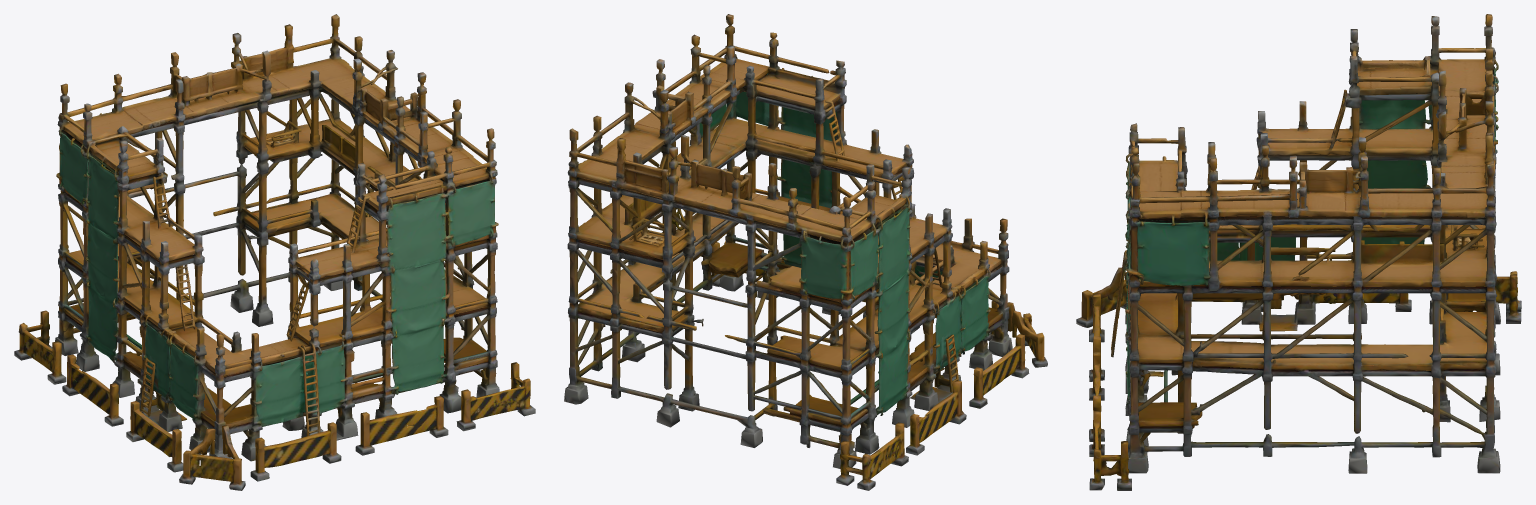
The model's file is construction_site.glb.
3 views of the same model, side by side, from view 1: azimuth 30°, elevation 25°; view 2: azimuth 150°, elevation 25°; view 3: azimuth 270°, elevation 25° (orthographic). The views are drawn at different scales.
Visible parts, largest first — view 1: tripo_node_17b1e4ad-d208-409d-8eee-f9cfc0f92df0; view 2: tripo_node_17b1e4ad-d208-409d-8eee-f9cfc0f92df0; view 3: tripo_node_17b1e4ad-d208-409d-8eee-f9cfc0f92df0.
Boxes of the visible parts, x1=… form: tripo_node_17b1e4ad-d208-409d-8eee-f9cfc0f92df0: x1=14, y1=14, x2=535, y2=490; tripo_node_17b1e4ad-d208-409d-8eee-f9cfc0f92df0: x1=564, y1=14, x2=1047, y2=490; tripo_node_17b1e4ad-d208-409d-8eee-f9cfc0f92df0: x1=1076, y1=14, x2=1521, y2=490.
Bounding box in the file's own units: 1 × 0.7906 × 0.9974.
1 material, 1 textured.
